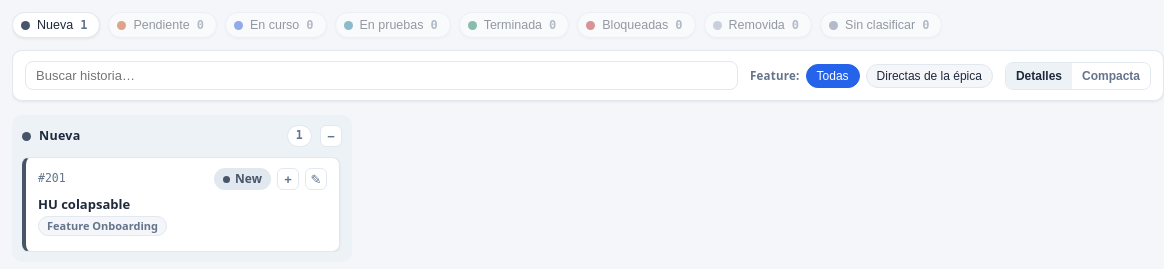
Test: TableroHistorias › colapsa una columna
Click the button named "contraer columna nueva" at (331, 136), box [320,125,342,147]
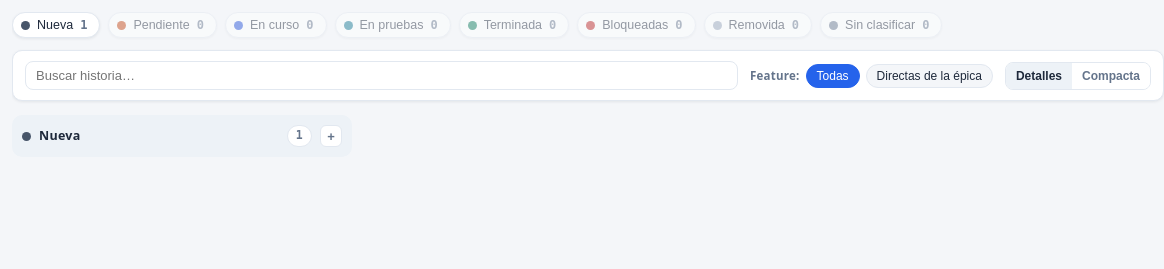
Expected: the heading "HU colapsable" is gone
